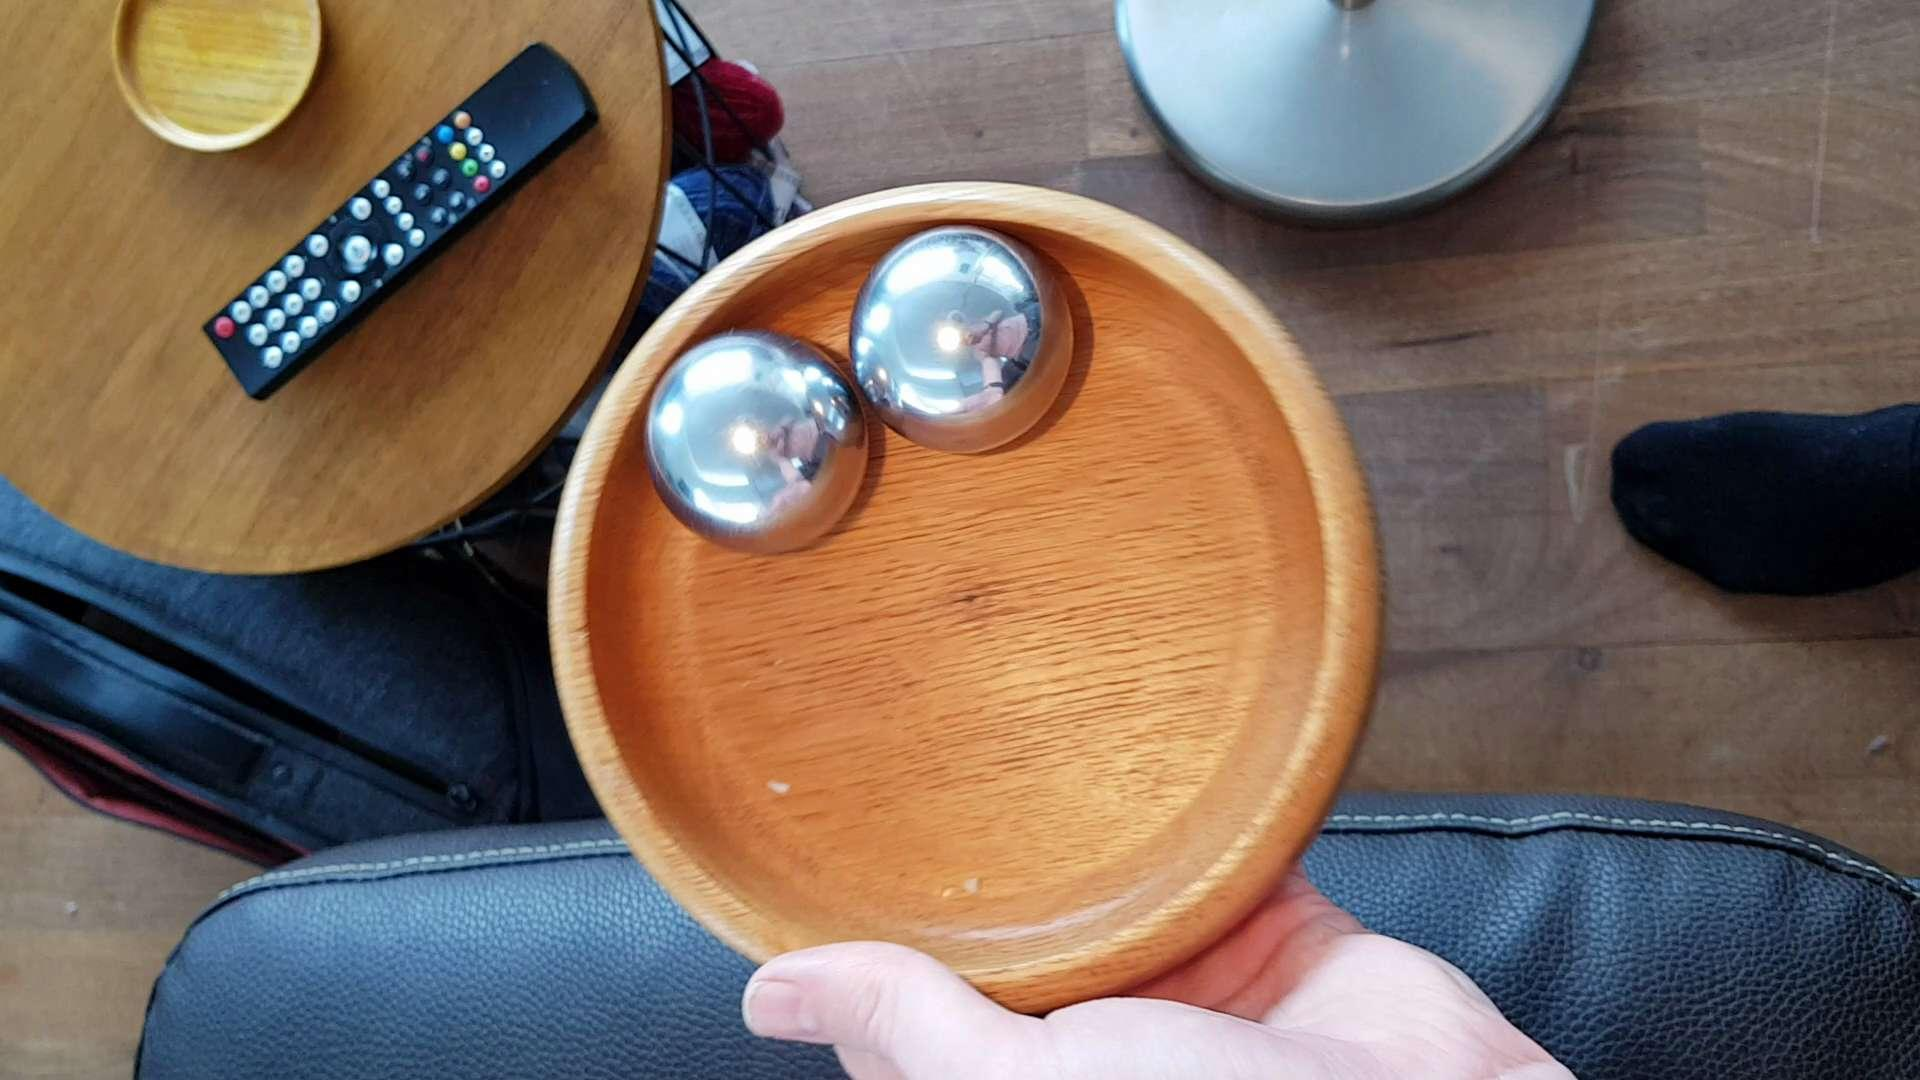sphere: (839, 214, 1076, 446), (638, 319, 869, 556)
